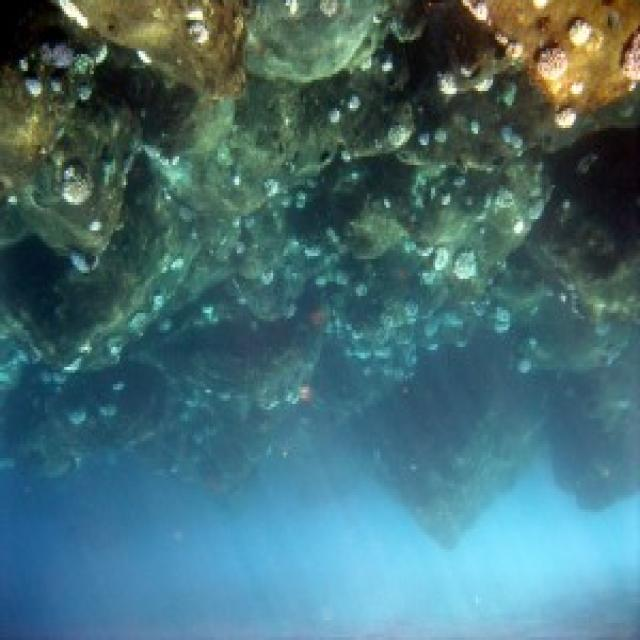Bleached: (528, 41, 571, 92), (61, 163, 96, 212), (381, 113, 414, 160), (452, 247, 481, 292), (254, 172, 286, 203), (324, 95, 347, 138), (187, 22, 210, 55), (574, 18, 594, 49)
